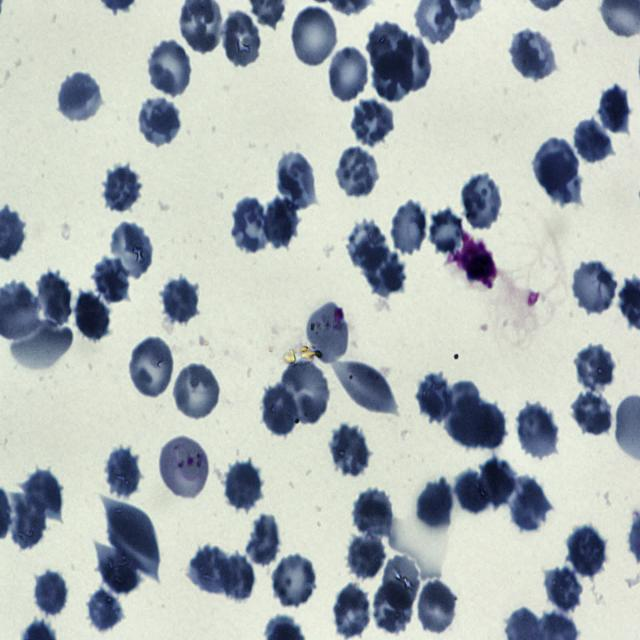red blood cell: (105, 503, 160, 581), (333, 360, 399, 414), (290, 4, 340, 70), (128, 336, 176, 399), (172, 360, 221, 421), (283, 360, 330, 422), (306, 300, 350, 364), (507, 474, 555, 532), (109, 220, 155, 280), (146, 38, 193, 96), (11, 326, 73, 369), (572, 258, 618, 315), (57, 70, 104, 125), (326, 45, 370, 102), (446, 381, 484, 447), (350, 95, 398, 147), (271, 554, 317, 608), (367, 21, 409, 80), (380, 556, 422, 614), (534, 137, 578, 192), (363, 242, 406, 298), (221, 11, 263, 68), (372, 577, 414, 634), (541, 151, 583, 208), (392, 34, 433, 91), (462, 172, 502, 230), (231, 197, 271, 255), (517, 404, 558, 460), (511, 29, 556, 80), (96, 543, 140, 595), (372, 50, 415, 103), (189, 546, 234, 596), (330, 423, 370, 479), (278, 152, 317, 209), (334, 148, 378, 198), (574, 342, 617, 393), (9, 496, 48, 552), (334, 583, 372, 639), (570, 390, 615, 437), (137, 98, 180, 147), (263, 194, 302, 248), (352, 488, 393, 539), (392, 200, 429, 256), (262, 384, 300, 438), (419, 580, 457, 634), (346, 220, 387, 270), (428, 208, 468, 259), (568, 525, 606, 578), (572, 117, 612, 167), (246, 515, 283, 569), (160, 276, 200, 325), (417, 480, 456, 530), (596, 82, 632, 136), (225, 461, 263, 512), (105, 447, 143, 498), (218, 552, 256, 603), (346, 534, 386, 582), (74, 292, 112, 342), (544, 566, 584, 613), (104, 165, 142, 214), (24, 469, 62, 517), (456, 468, 494, 516), (470, 403, 508, 450), (34, 568, 69, 619), (478, 458, 514, 507), (416, 373, 452, 422), (37, 271, 71, 322), (93, 258, 131, 303), (90, 588, 122, 632)
ring: (158, 435, 210, 501)
